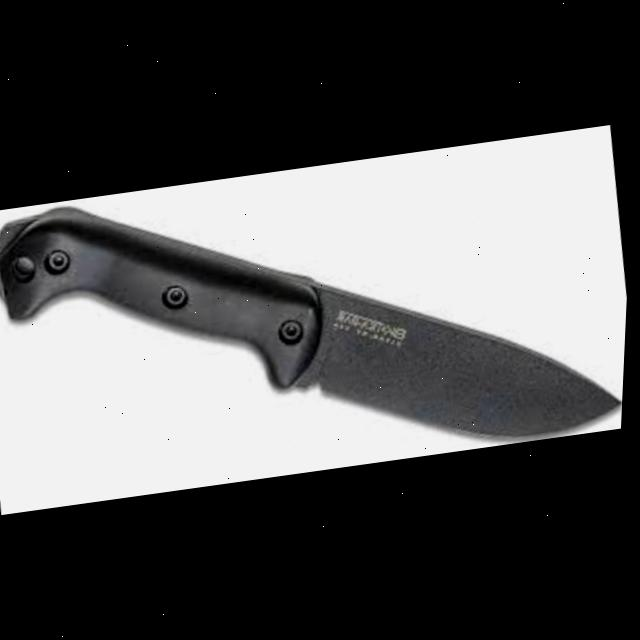Knife: (0, 129, 635, 510)
